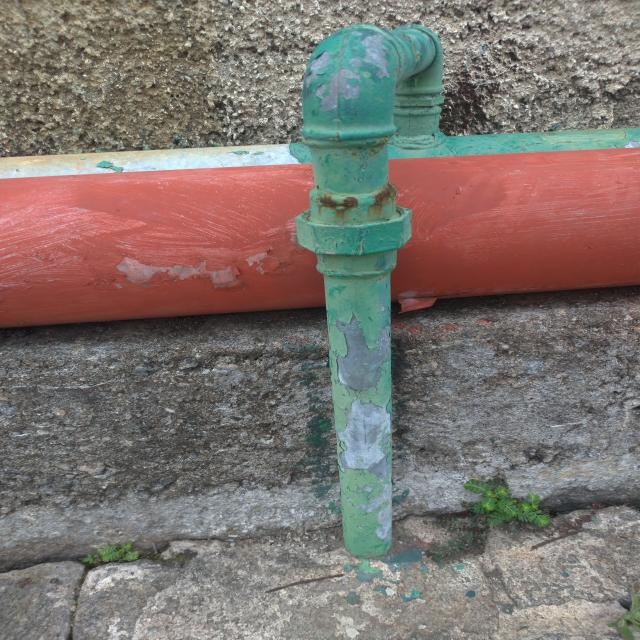gas: (2, 150, 640, 327), (294, 26, 435, 547)
